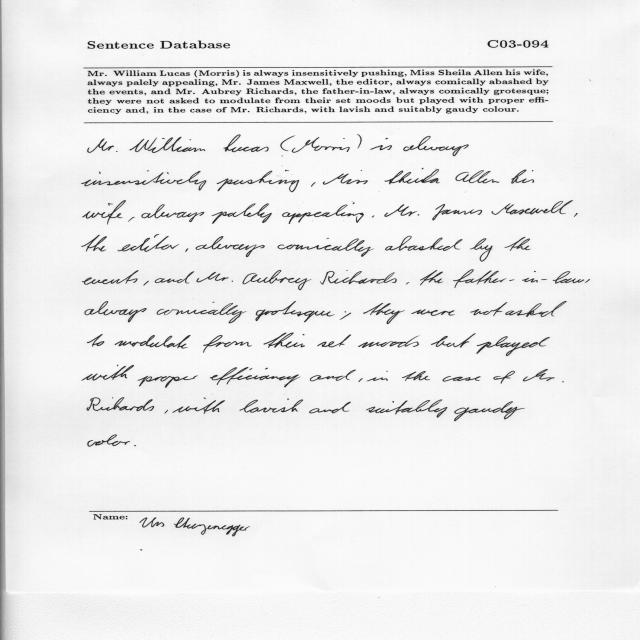word: (82, 171, 206, 191), (454, 270, 585, 288), (157, 302, 247, 323), (278, 238, 374, 257), (210, 367, 301, 387), (217, 170, 299, 192), (282, 202, 364, 224), (255, 302, 335, 323), (470, 237, 530, 262), (476, 336, 550, 356), (366, 400, 447, 418), (196, 236, 265, 257), (454, 402, 525, 422), (243, 270, 312, 290), (85, 301, 147, 323), (403, 136, 469, 156), (292, 135, 362, 153), (212, 203, 272, 224), (491, 200, 573, 215), (130, 137, 206, 153), (385, 236, 463, 251), (320, 270, 397, 285), (142, 204, 204, 222), (118, 234, 179, 252), (115, 335, 191, 349), (83, 201, 126, 225), (505, 301, 567, 317), (239, 398, 303, 413), (87, 398, 154, 412), (173, 397, 225, 414), (363, 303, 405, 324), (203, 335, 252, 353), (385, 169, 440, 185), (82, 270, 139, 285), (82, 365, 134, 381), (224, 135, 269, 153), (358, 335, 420, 348), (432, 204, 482, 220), (137, 375, 198, 388), (323, 170, 368, 185), (431, 333, 475, 348), (263, 333, 305, 348), (456, 171, 500, 184), (310, 370, 356, 382), (523, 369, 564, 382), (471, 302, 508, 316), (88, 435, 130, 447), (155, 272, 194, 284), (309, 402, 351, 413), (385, 204, 420, 217), (88, 138, 118, 153), (81, 235, 107, 252), (317, 335, 351, 348), (420, 270, 443, 286), (197, 272, 233, 282), (511, 170, 534, 184), (411, 309, 455, 316), (493, 371, 515, 384), (402, 371, 430, 381), (443, 376, 481, 382), (280, 136, 295, 151), (367, 371, 388, 381), (88, 334, 105, 346), (370, 145, 392, 150), (340, 311, 351, 320), (128, 217, 135, 222), (311, 182, 316, 187), (144, 281, 149, 286), (585, 279, 590, 283), (358, 378, 363, 382), (574, 213, 578, 217), (186, 249, 189, 252), (406, 282, 409, 285), (165, 410, 168, 413), (372, 215, 374, 218), (386, 138, 389, 139), (326, 238, 329, 239), (134, 446, 136, 447)
